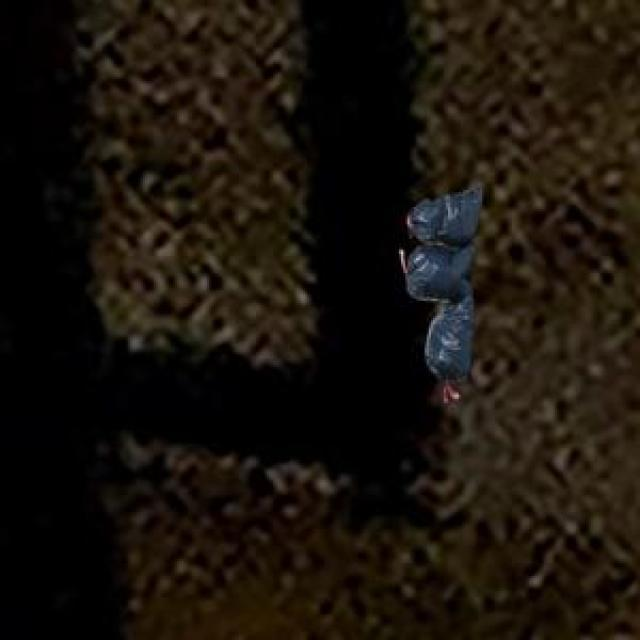Trashbag: (400, 241, 483, 306), (404, 186, 487, 248), (422, 292, 477, 382)
